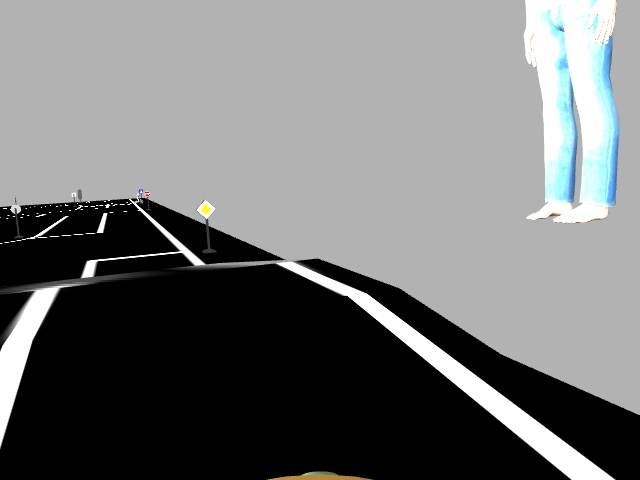Priority: (193, 200, 218, 220)
